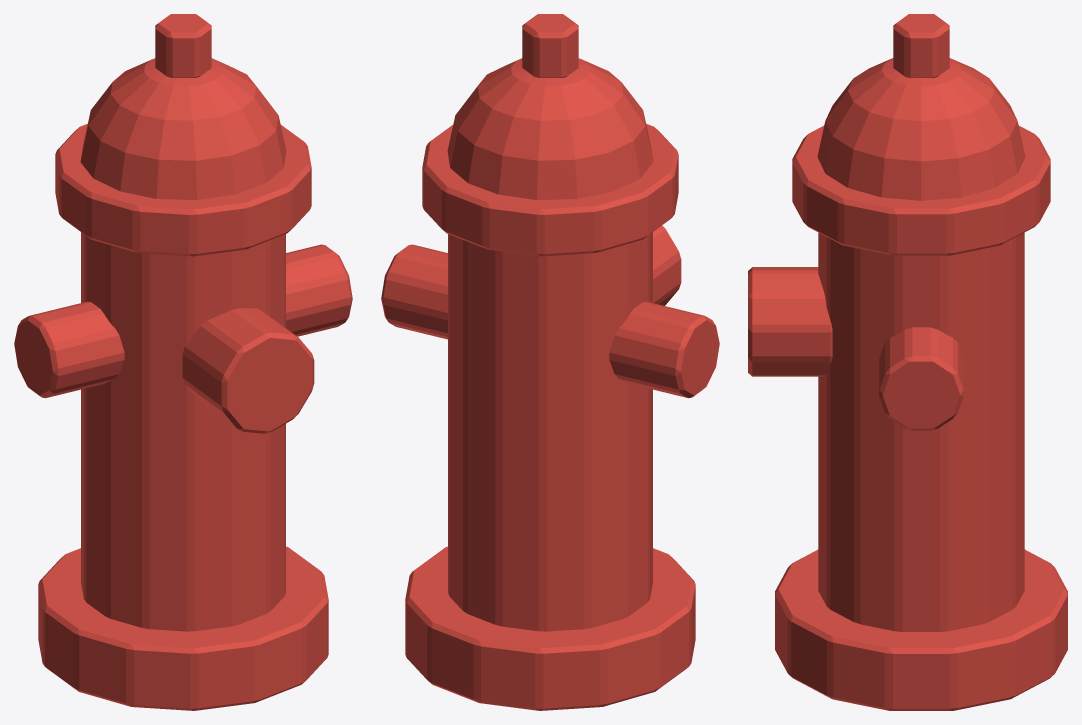
Rendered from fire_hydrant.glb.
3 renders of one model, left to right at view 1: azimuth 30°, elevation 25°; view 2: azimuth 150°, elevation 25°; view 3: azimuth 270°, elevation 25°, orthographic.
Parts seen in each view (by area): view 1: fire_hydrant; view 2: fire_hydrant; view 3: fire_hydrant.
Boxes of the visible parts, x1,y1,x2,y2 form: fire_hydrant: [14, 14, 352, 710]; fire_hydrant: [381, 14, 719, 710]; fire_hydrant: [748, 14, 1067, 710].
Size of the model in its own units: 0.4 by 0.8 by 0.3689.
